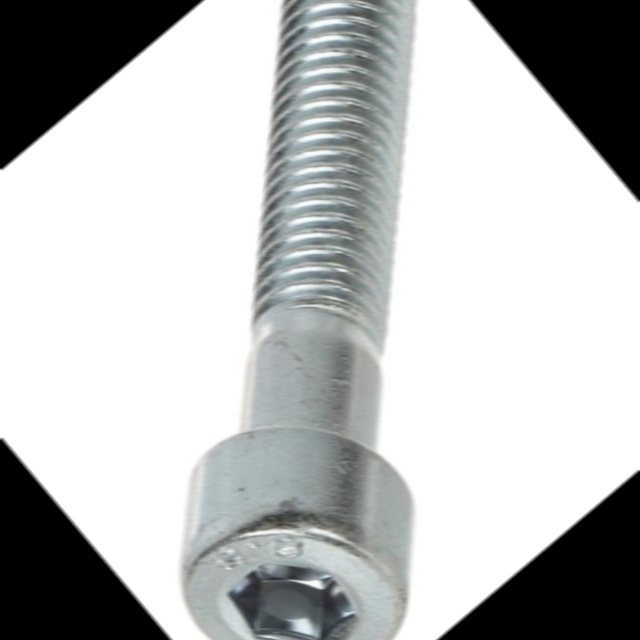allen: (214, 527, 372, 640)
